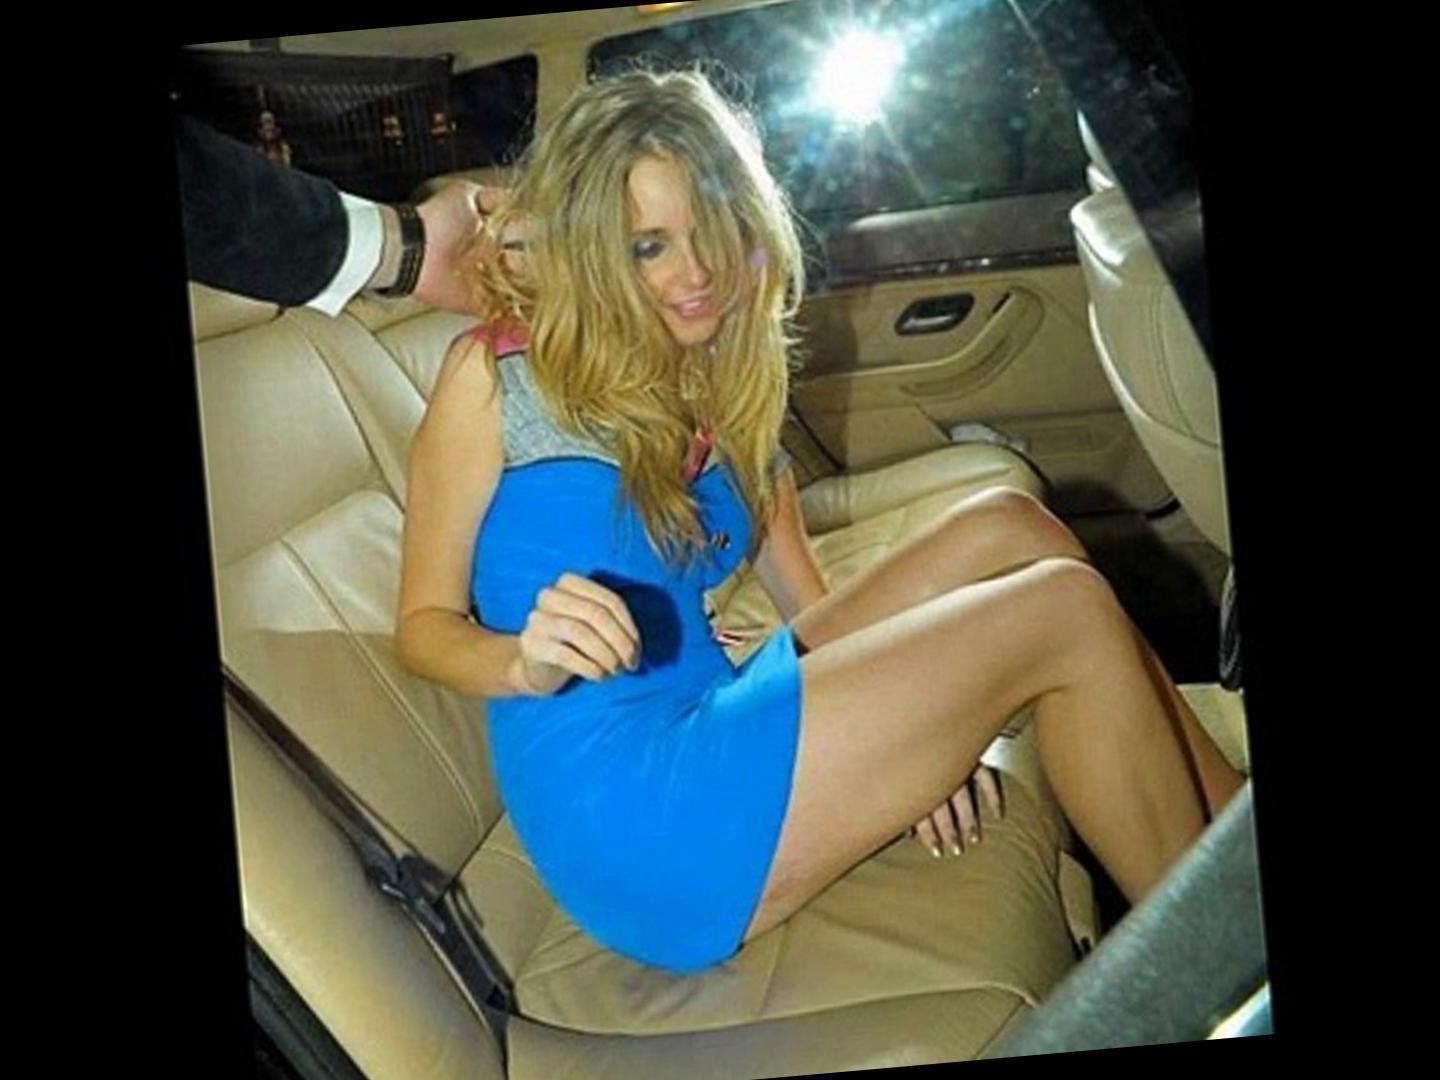Drunk: (628, 161, 725, 340)
